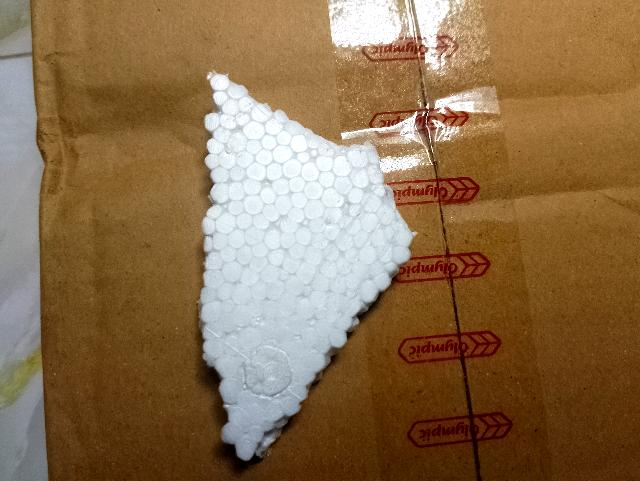cocksheet: (192, 70, 420, 450)
